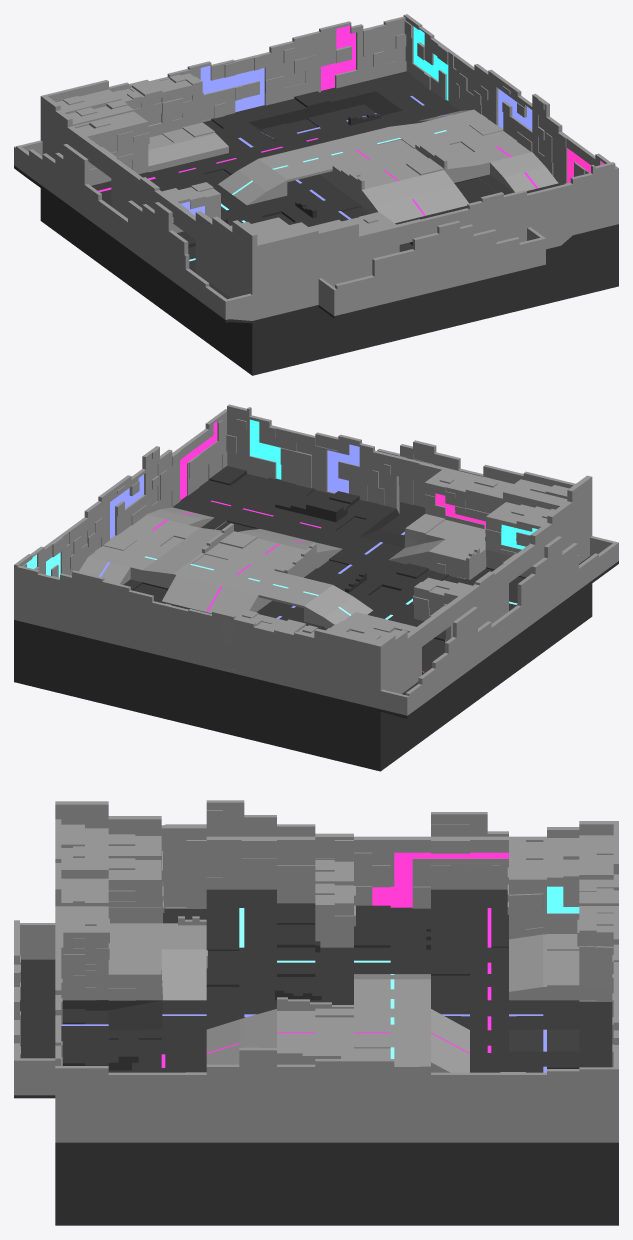
Rendered from mapModel.fbx.
3 renders of one model, top to bottom at view 1: azimuth 30°, elevation 25°; view 2: azimuth 150°, elevation 25°; view 3: azimuth 270°, elevation 25°, orthographic. The views are drawn at different scales.
Parts seen in each view (by area): view 1: Map; view 2: Map; view 3: Map.
Part boxes in pixels (bbox=[...]): Map: bbox=[14, 14, 618, 375]; Map: bbox=[14, 404, 618, 771]; Map: bbox=[14, 800, 618, 1225].
Size of what is drawn, in the model's own units: 15245 by 5181 by 15254.
